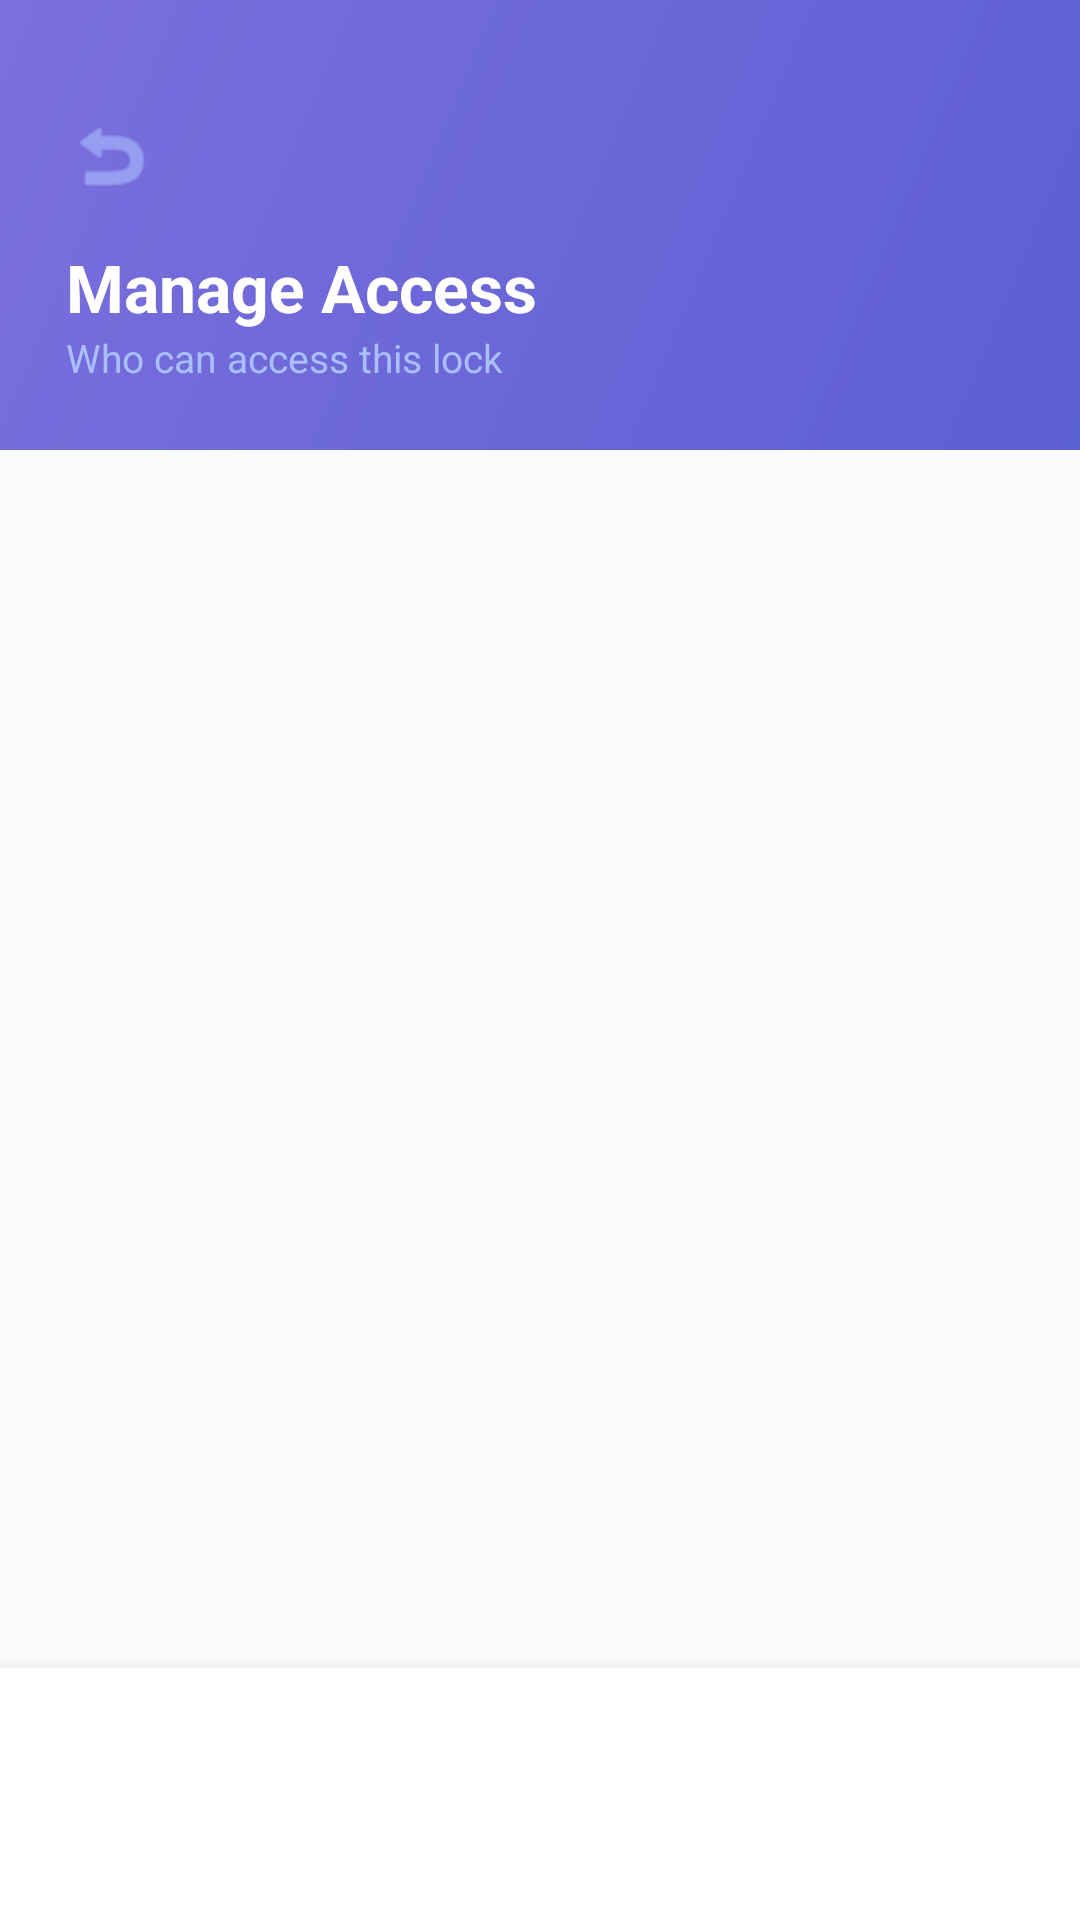

Icon click points for this 1080px x 1920px phone screenshot, format [x,y]:
revert: [112,156]
